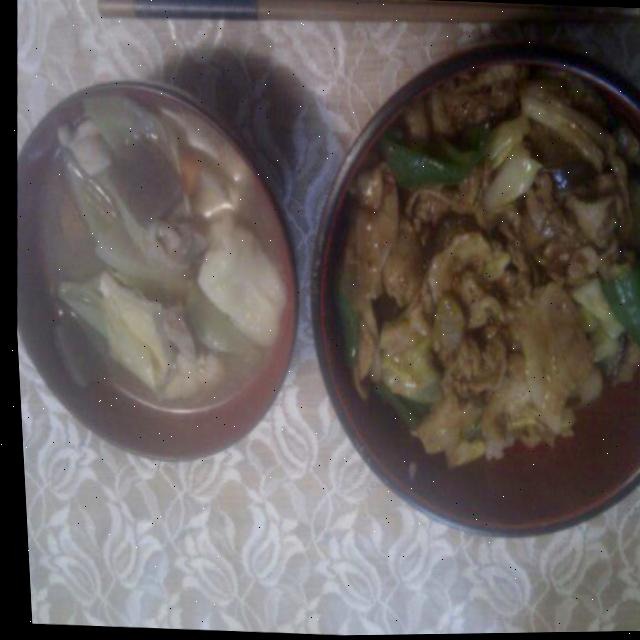汤锅炖物: (4, 88, 314, 468)
